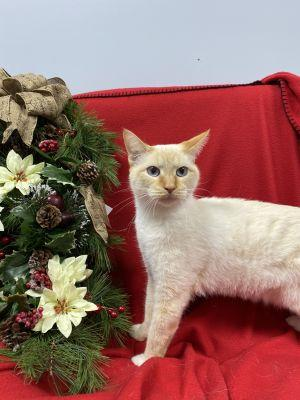siamese: (120, 118, 216, 220)
